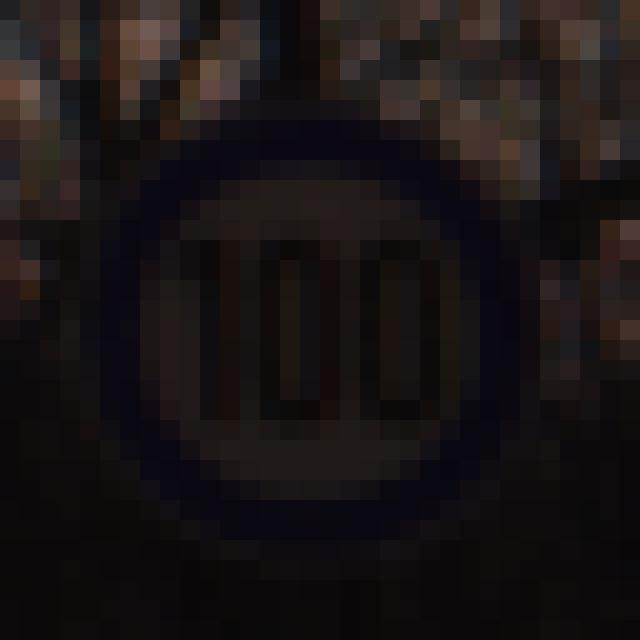SPEED LIMIT 100: (76, 123, 532, 547)
